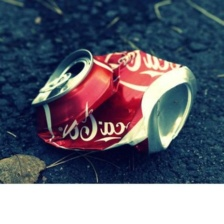can: (25, 46, 200, 163)
